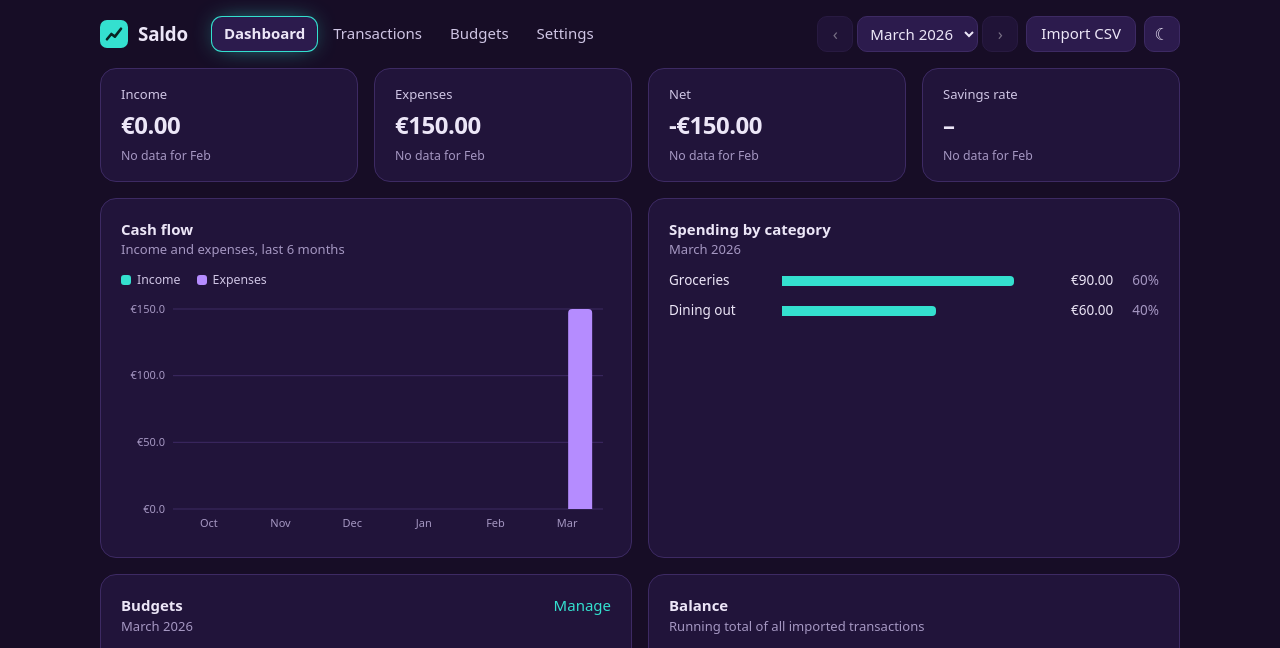
edits and removes a budget
Later steps or results of the test are not shown.
Click the button "Budgets" at coordinates (479, 34), box [438,17,520,51]
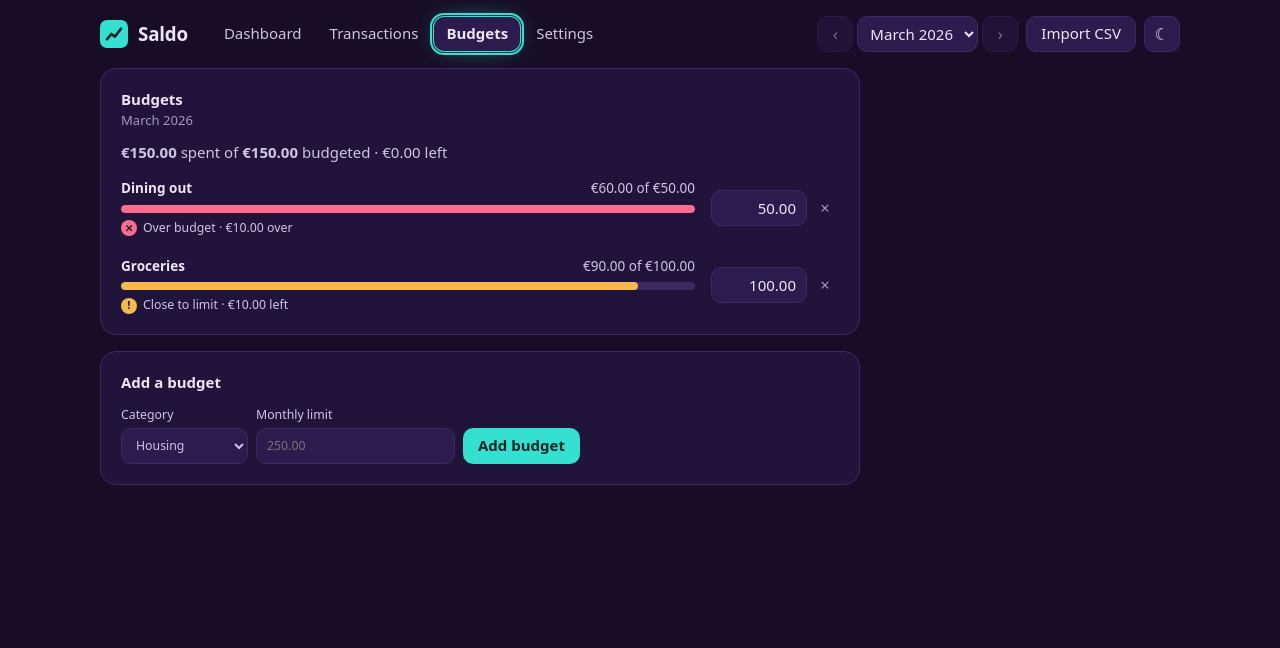
Replace the text in the field named "Monthly limit for Dining out" with "100" at coordinates (759, 208), box [711,190,807,226]
Then press Enter
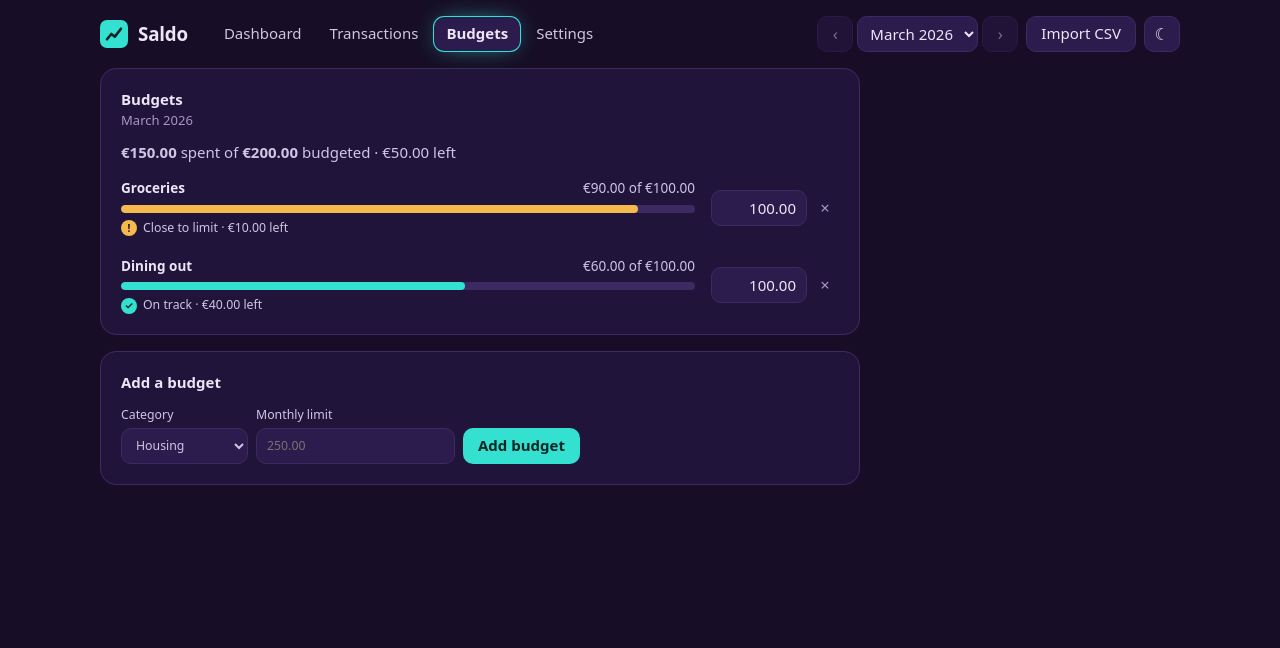
Result: the element named "Dining out budget" has attribute aria-valuetext="60% used, €40.00 left" at [121,282,695,290]
